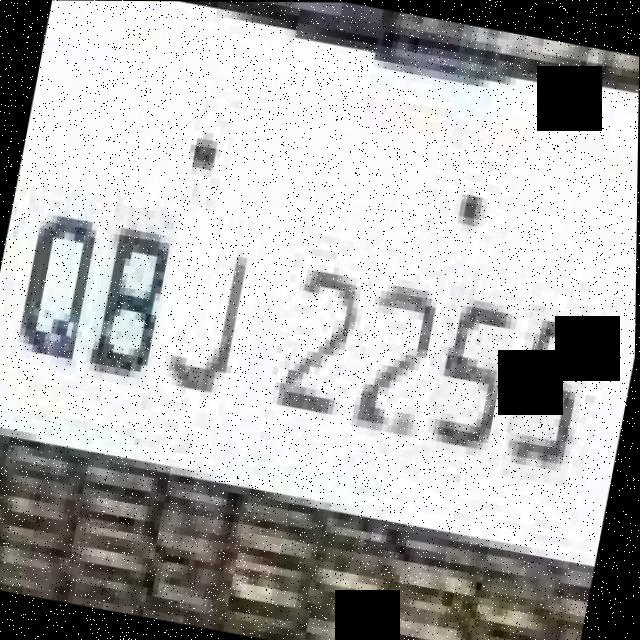5: (500, 303, 598, 485), (422, 284, 522, 462)
B: (83, 203, 182, 389)
J: (159, 211, 264, 405)
Q: (8, 186, 109, 373)
